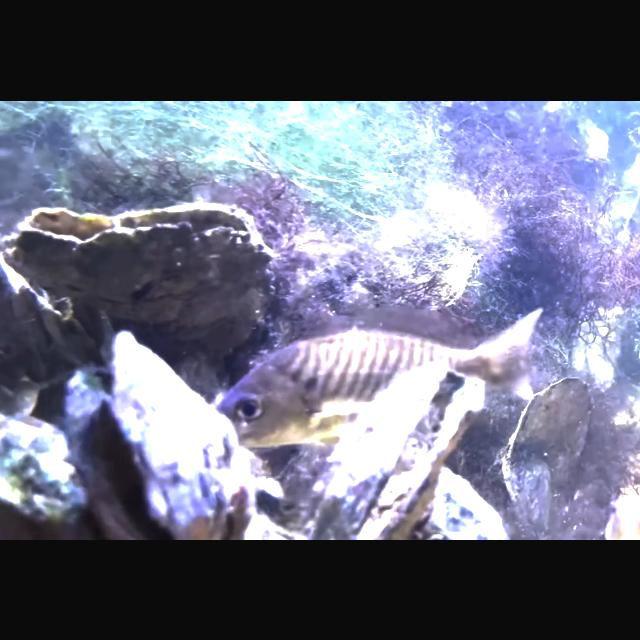Oyster-Closed: (502, 374, 594, 508), (0, 409, 86, 526)
Oyster-Open: (56, 326, 254, 538), (9, 198, 272, 350), (306, 358, 486, 540)
